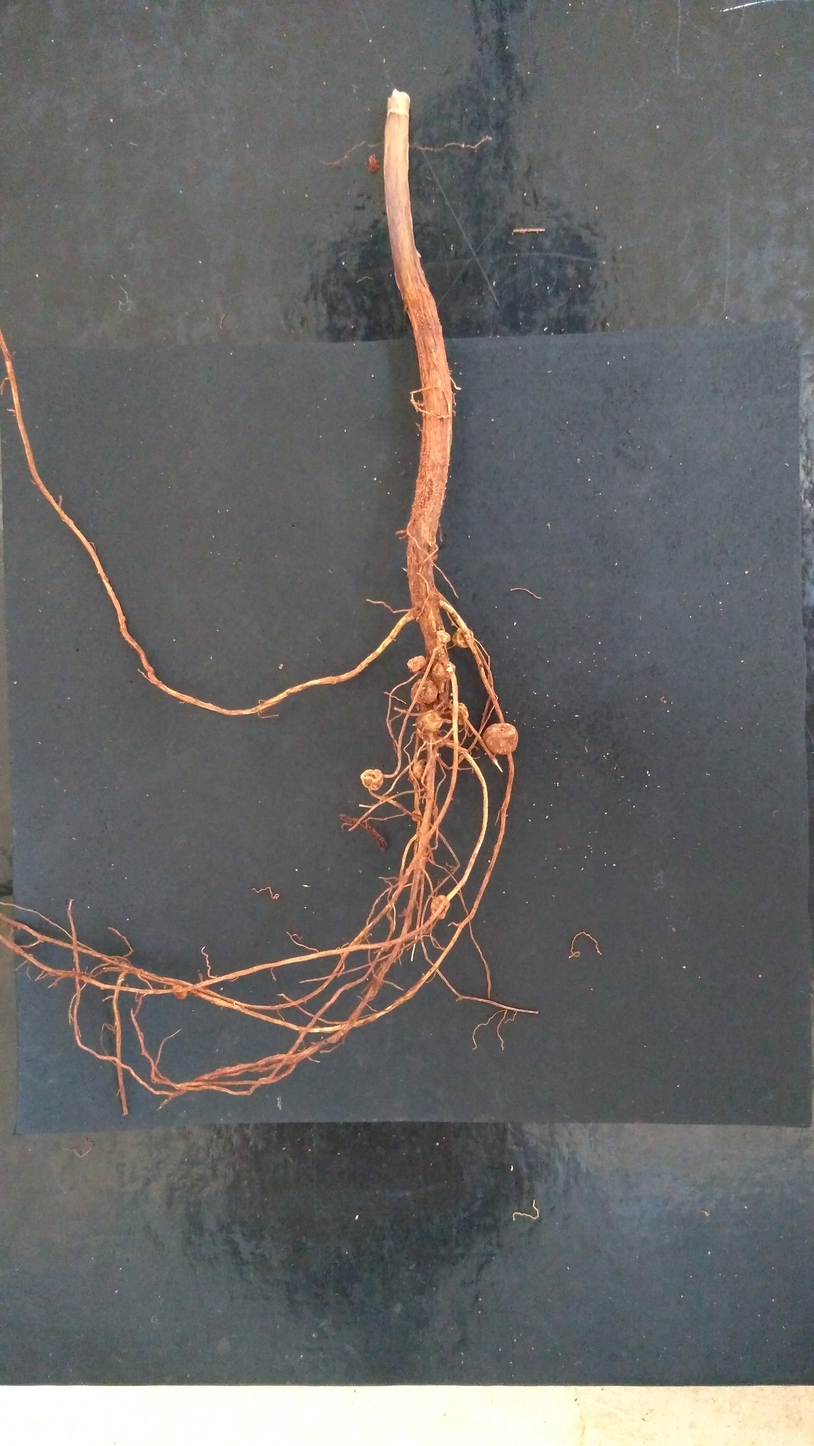nodule: (482, 723, 518, 755), (410, 678, 438, 704), (433, 659, 456, 682), (360, 770, 383, 791), (452, 627, 474, 648), (421, 710, 443, 731), (431, 895, 450, 919), (407, 655, 426, 672), (413, 759, 427, 782), (455, 702, 468, 725), (172, 985, 187, 999), (437, 630, 450, 643), (412, 809, 421, 821), (450, 693, 453, 696)
